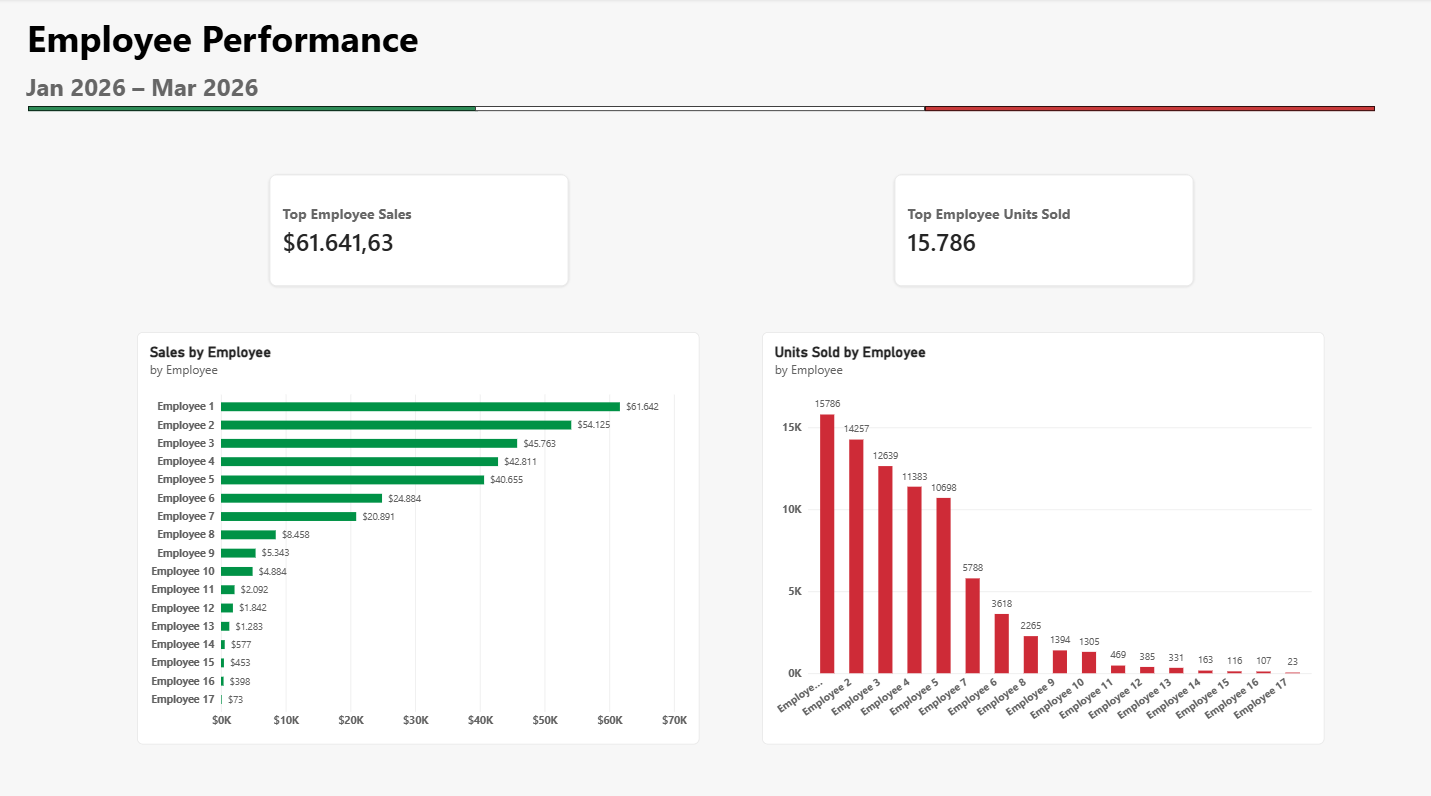

What the dashboard file says about the page in this screenshot:
{"tool":"powerbi","page":{"name":"Employees","canvas":[1920,1080],"ordinal":2},"visuals":[{"type":"clusteredColumnChart","fields":{"Category":["Employees.Employee"],"Y":["Calendar.Total Employee Quantity"]},"box":[1020,445.7,750,550],"z":0},{"type":"clusteredBarChart","fields":{"Category":["Employees.Employee"],"Y":["Calendar.Total Employee Sales"]},"box":[187.1,445.7,750,550],"z":1000},{"type":"cardVisual","fields":{"Data":["Calendar.Top Employee Sales"]},"box":[362.9,234.3,400,150],"z":2000},{"type":"cardVisual","fields":{"Data":["Calendar.Top Employee Quantity"]},"box":[1195.7,234.3,400,150],"z":3000},{"type":"textbox","box":[39.3,95.6,650.2,68.3],"z":4000},{"type":"shape","box":[40.7,143.8,600,6.8],"z":5000},{"type":"shape","box":[637.1,144.3,600,6.8],"z":6000},{"type":"shape","box":[1237.1,143.8,600,6.8],"z":7000},{"type":"textbox","box":[40,20,827.7,150.2],"z":8000},{"type":"textbox","box":[49.3,105.6,650.2,68.3],"z":9000}]}

Visuals, with their boxes in screenshot pixels (x1, y1, x2, y2), scaled from the page's 1920x1080 canvas onto the 1431x796 screenshot:
clusteredColumnChart - Employees.Employee x Calendar.Total Employee Quantity: <bbox>760, 328, 1319, 734</bbox>
clusteredBarChart - Employees.Employee x Calendar.Total Employee Sales: <bbox>139, 328, 698, 734</bbox>
cardVisual - Calendar.Top Employee Sales: <bbox>270, 173, 569, 283</bbox>
cardVisual - Calendar.Top Employee Quantity: <bbox>891, 173, 1189, 283</bbox>
textbox: <bbox>29, 70, 514, 121</bbox>
shape: <bbox>30, 106, 478, 111</bbox>
shape: <bbox>475, 106, 922, 111</bbox>
shape: <bbox>922, 106, 1369, 111</bbox>
textbox: <bbox>30, 15, 647, 125</bbox>
textbox: <bbox>37, 78, 521, 128</bbox>
